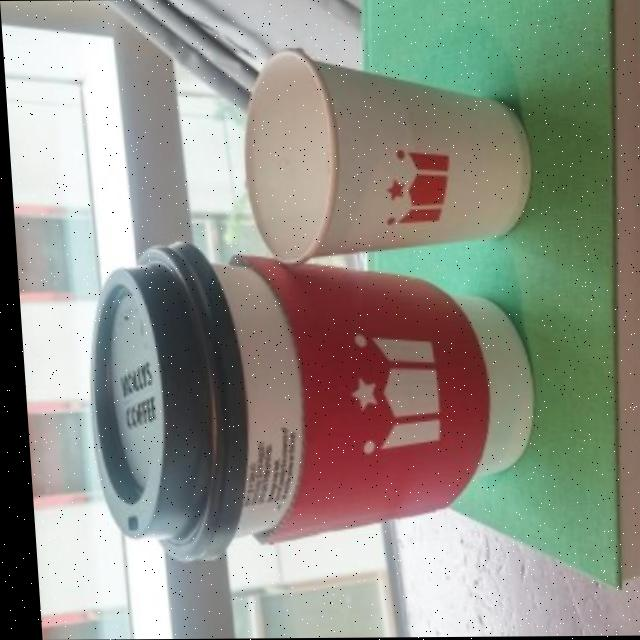cup: (211, 256, 527, 542), (243, 50, 528, 261)
